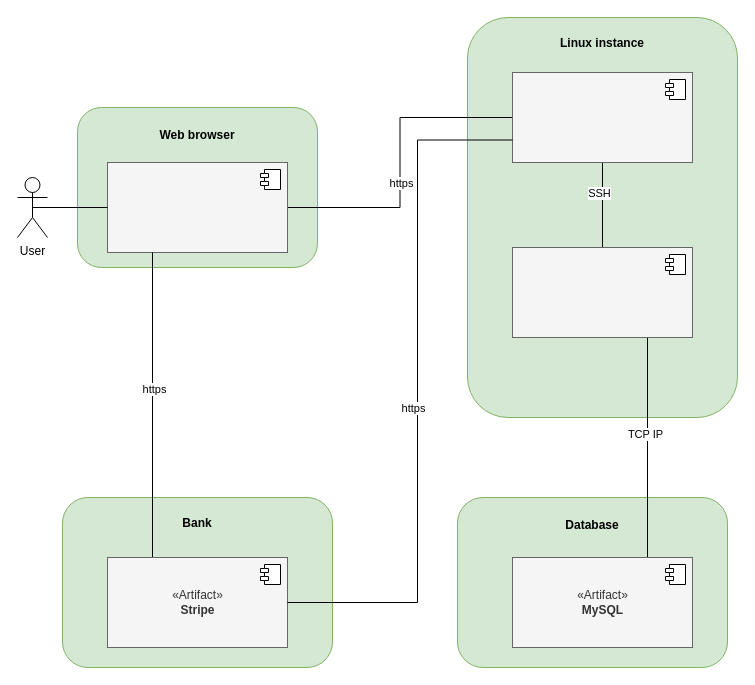
Some shapes in this 755 by 685 pixel diagram are drawn without their labels. Here are the shapes that lost their labels. From the top down, the centre of each, then its label:
At [602,117]: "«Artifact» Nginx (https server)".
At [197,207]: "«Artifact» Chrome".
At [602,292]: "«Artifact» Gunicorn (Django)".
